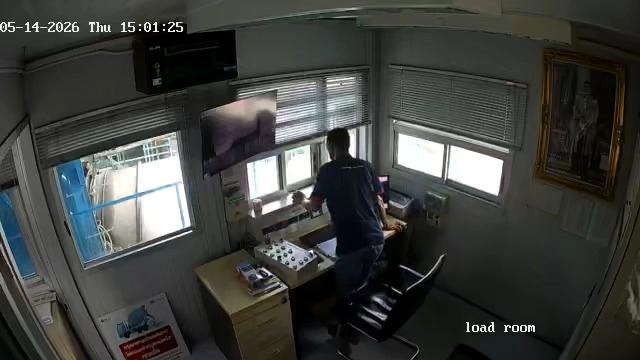Head: (323, 127, 361, 166)
People: (285, 127, 401, 357)
